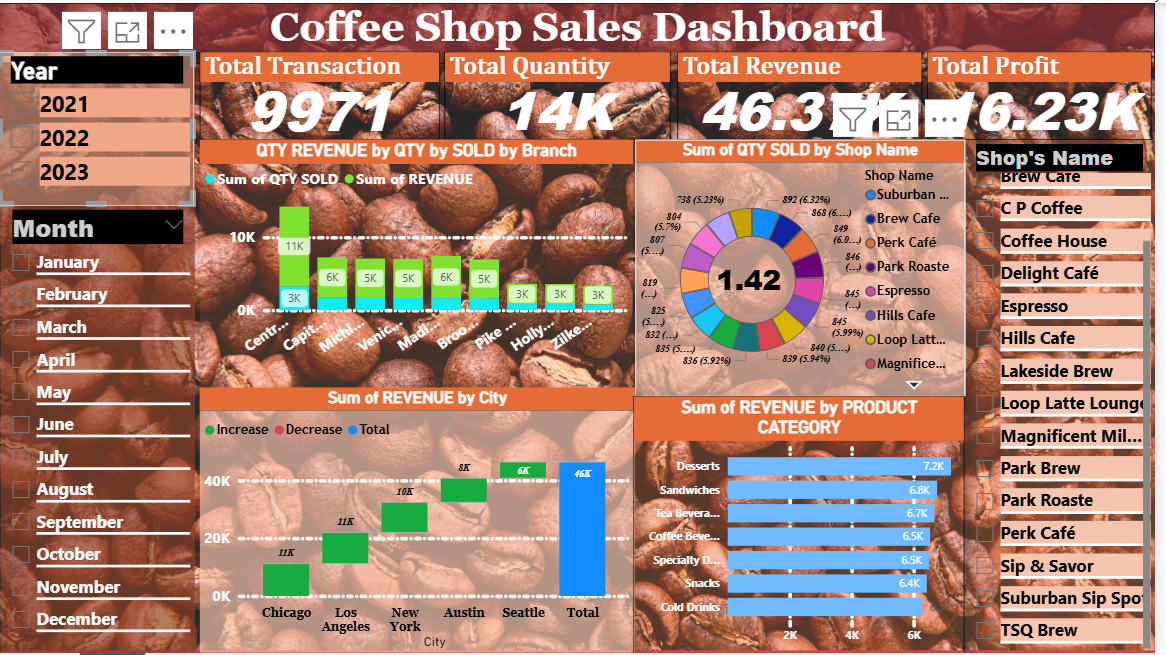

What the dashboard file says about the page in this screenshot:
{"tool":"powerbi","page":{"name":"Page 1","canvas":[1280,720],"ordinal":0},"visuals":[{"type":"shape","box":[0,0,1279.6,54.2],"z":0},{"type":"textbox","title":"Coffee Shop Sales Dashboard","box":[0,0,1279.6,67.2],"z":1000},{"type":"shape","box":[0,67.2,216.7,651.9],"z":2000},{"type":"card","title":"Total Transaction","fields":{"Values":["select","CountNonNull(Sheet1.TRANSACTION ID)"]},"box":[222.3,54.2,265.3,97.1],"z":3000},{"type":"card","title":"Total Quantity","fields":{"Values":["select","Sum(Sheet1.QTY SOLD)"]},"box":[493.2,54.2,250.3,97.1],"z":4000},{"type":"card","title":"Total Revenue","fields":{"Values":["select","Sum(Sheet1.REVENUE)"]},"box":[750.9,54.2,270.9,97.1],"z":5000},{"type":"card","title":"Total Profit","fields":{"Values":["select","Sum(Sheet1.PROFIT MARGIN)"]},"box":[1027.4,54.2,248.4,97.1],"z":6000},{"type":"slicer","fields":{"Values":["Sheet1.DATE.Variation.Date Hierarchy.Year"]},"box":[0,54.2,216.7,170],"z":7000},{"type":"slicer","fields":{"Values":["Sheet1.DATE.Variation.Date Hierarchy.Month"]},"box":[1.9,224.2,214.8,495],"z":8000},{"type":"slicer","fields":{"Values":["Sheet1.Shop Name"]},"box":[1068.5,151.3,211.1,567.9],"z":9000},{"type":"lineStackedColumnComboChart","title":"QTY REVENUE by QTY by SOLD by Branch","fields":{"Category":["Sheet1.Branch"],"Y":["Sum(Sheet1.QTY SOLD)","Sum(Sheet1.REVENUE)"]},"box":[222.3,151.3,480.1,274.6],"z":10000},{"type":"donutChart","fields":{"Y":["Sum(Sheet1.QTY SOLD)"],"Category":["Sheet1.Shop Name"]},"box":[704.2,151.3,366.1,283.9],"z":11000},{"type":"card","title":"Total Quantity","fields":{"Values":["select","Avg(Sheet1.QTY SOLD)"]},"box":[773.5,238.9,113.5,136],"z":12000},{"type":"waterfallChart","fields":{"Y":["Sum(Sheet1.REVENUE)"],"Category":["Sheet1.City"]},"box":[222.3,425.9,481.9,293.3],"z":13000},{"type":"clusteredBarChart","fields":{"Category":["Sheet1.PRODUCT CATEGORY"],"Y":["Sum(Sheet1.REVENUE)"]},"box":[702.4,435.2,366.1,285],"z":14000}]}

Visuals, with their boxes in screenshot pixels (x1, y1, x2, y2), scaled from the page's 1280x720 canvas onto the 1166x655 screenshot:
shape: box=[0, 0, 1165, 49]
"Coffee Shop Sales Dashboard" textbox: box=[0, 0, 1165, 61]
shape: box=[0, 61, 197, 654]
"Total Transaction" card: box=[203, 49, 444, 138]
"Total Quantity" card: box=[449, 49, 677, 138]
"Total Revenue" card: box=[684, 49, 931, 138]
"Total Profit" card: box=[936, 49, 1162, 138]
slicer - Sheet1.DATE.Variation.Date Hierarchy.Year: box=[0, 49, 197, 204]
slicer - Sheet1.DATE.Variation.Date Hierarchy.Month: box=[2, 204, 197, 654]
slicer - Sheet1.Shop Name: box=[973, 138, 1165, 654]
"QTY REVENUE by QTY by SOLD by Branch" lineStackedColumnComboChart: box=[203, 138, 640, 387]
donutChart - Sum(Sheet1.QTY SOLD) x Sheet1.Shop Name: box=[641, 138, 975, 396]
"Total Quantity" card: box=[705, 217, 808, 341]
waterfallChart - Sum(Sheet1.REVENUE) x Sheet1.City: box=[203, 387, 641, 654]
clusteredBarChart - Sheet1.PRODUCT CATEGORY x Sum(Sheet1.REVENUE): box=[640, 396, 973, 654]
